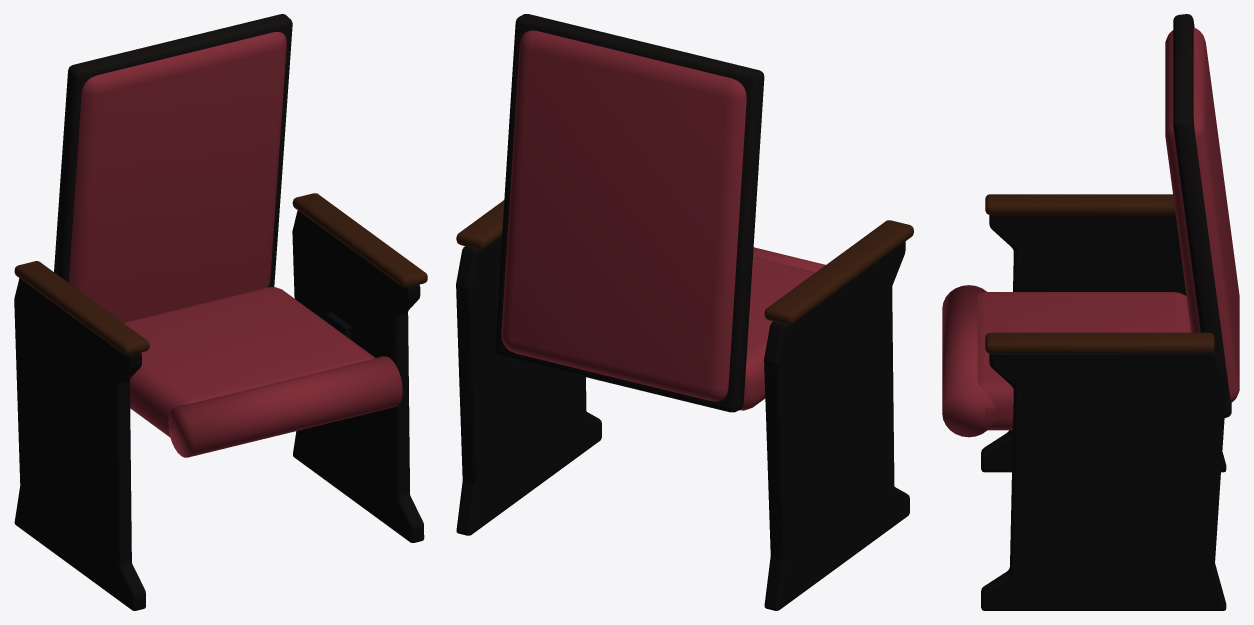
The model's file is cinema-seat.glb.
3 views of the same model, side by side, from view 1: azimuth 30°, elevation 25°; view 2: azimuth 150°, elevation 25°; view 3: azimuth 270°, elevation 25° (orthographic). The views are drawn at different scales.
Parts seen in each view (by area): view 1: Würfel.005, Standard, Standard.001, Würfel.004, Zylinder, Würfel.006, Würfel.002, Würfel; view 2: Würfel.005, Standard, Standard.001, Würfel.006, Würfel, Würfel.004, Würfel.002, Zylinder; view 3: Standard.001, Standard, Würfel.004, Würfel.005, Würfel.006, Zylinder, Würfel.002, Würfel.
Boxes of the visible parts, x1,y1,x2,y2 form: Würfel.005: (68, 32, 286, 322); Standard: (14, 278, 145, 610); Standard.001: (292, 210, 424, 542); Würfel.004: (123, 287, 374, 437); Zylinder: (168, 356, 402, 457); Würfel.006: (54, 14, 292, 287); Würfel.002: (292, 193, 427, 287); Würfel: (14, 261, 149, 355); Würfel.005: (501, 30, 746, 401); Standard: (764, 241, 909, 610); Standard.001: (456, 236, 601, 535); Würfel.006: (495, 14, 764, 412); Würfel: (764, 220, 913, 324); Würfel.004: (739, 257, 815, 410); Würfel.002: (456, 200, 504, 249); Zylinder: (753, 247, 825, 271); Standard.001: (981, 348, 1226, 610); Standard: (981, 215, 1226, 472); Würfel.004: (977, 292, 1191, 430); Würfel.005: (1165, 28, 1239, 402); Würfel.006: (1173, 14, 1231, 417); Zylinder: (942, 285, 995, 437); Würfel.002: (985, 332, 1214, 353); Würfel: (985, 194, 1175, 214).
Size of the model in its own units: 0.875 by 1.27 by 0.7259.
